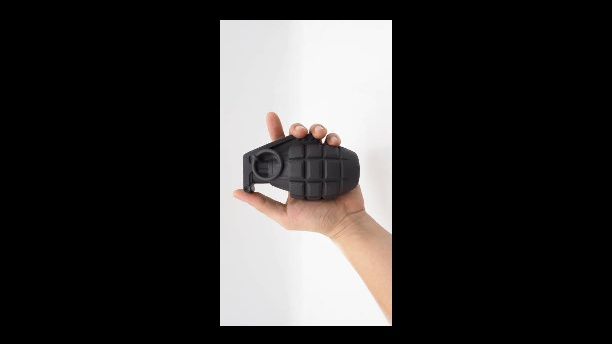e1: (242, 133, 365, 205)
